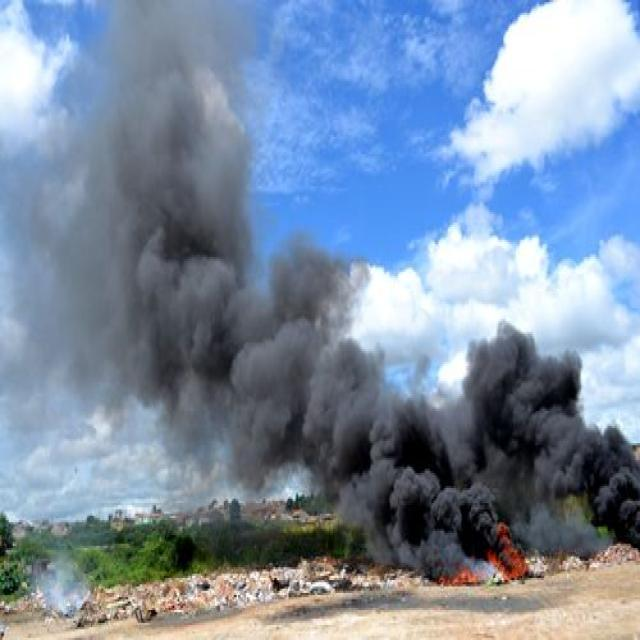Fire: (492, 517, 530, 578), (434, 556, 484, 586), (488, 548, 506, 582)
Smoke: (12, 11, 638, 590), (160, 378, 294, 508), (322, 486, 402, 574), (531, 500, 605, 578)
